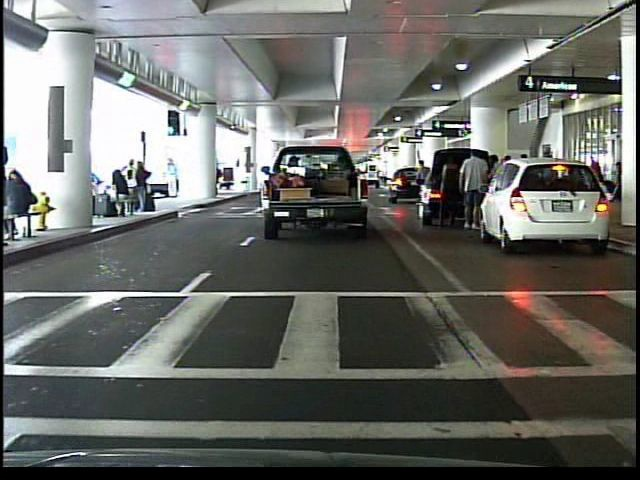person: (457, 145, 490, 235), (430, 147, 462, 230), (582, 150, 609, 201), (412, 156, 431, 209), (165, 156, 182, 200)
